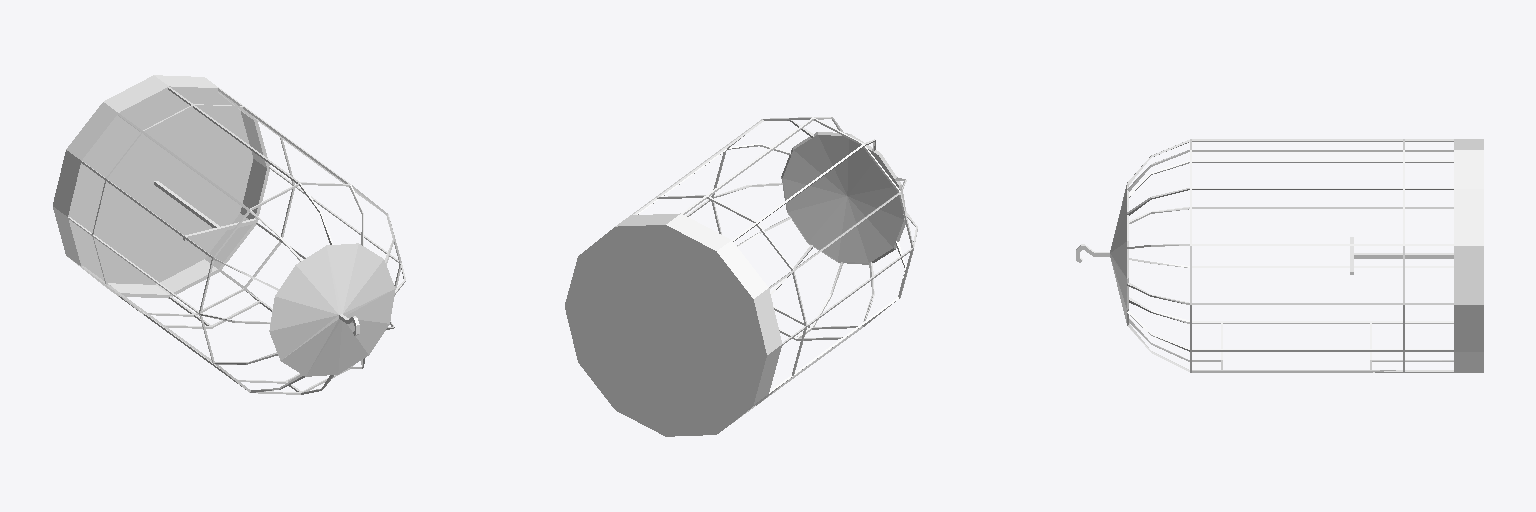
File: Cage.obj
The picture shows the model from 3 angles: view 1: azimuth 30°, elevation 25°; view 2: azimuth 150°, elevation 25°; view 3: azimuth 270°, elevation 25°; orthographic projection.
Visible parts, largest first — view 1: Bird_cage; view 2: Bird_cage; view 3: Bird_cage.
Part boxes in pixels (bbox=[...]): Bird_cage: bbox=[53, 75, 405, 394]; Bird_cage: bbox=[565, 117, 917, 436]; Bird_cage: bbox=[1076, 139, 1483, 372].
Bounding box in the file's own units: 46.54 × 46.54 × 81.3.